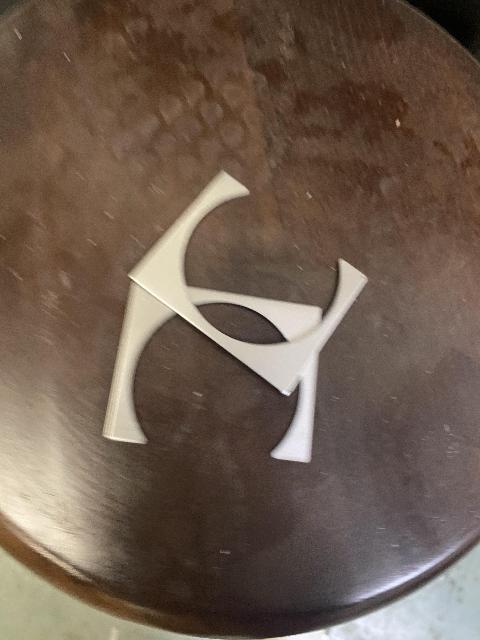Metal: (76, 170, 397, 487), (114, 171, 386, 390), (98, 283, 332, 465)
